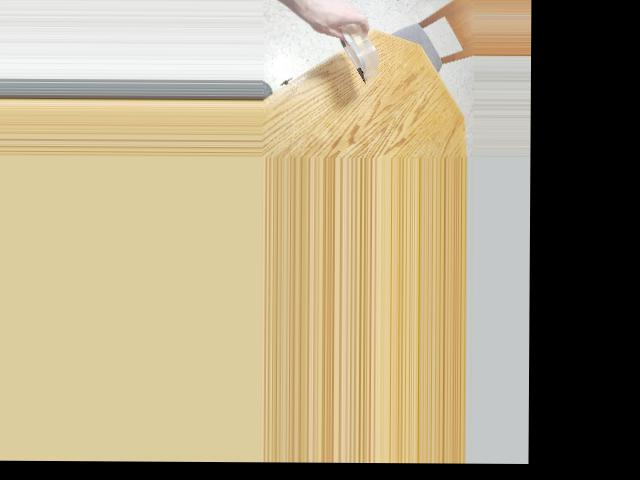cheese: (339, 20, 379, 81)
